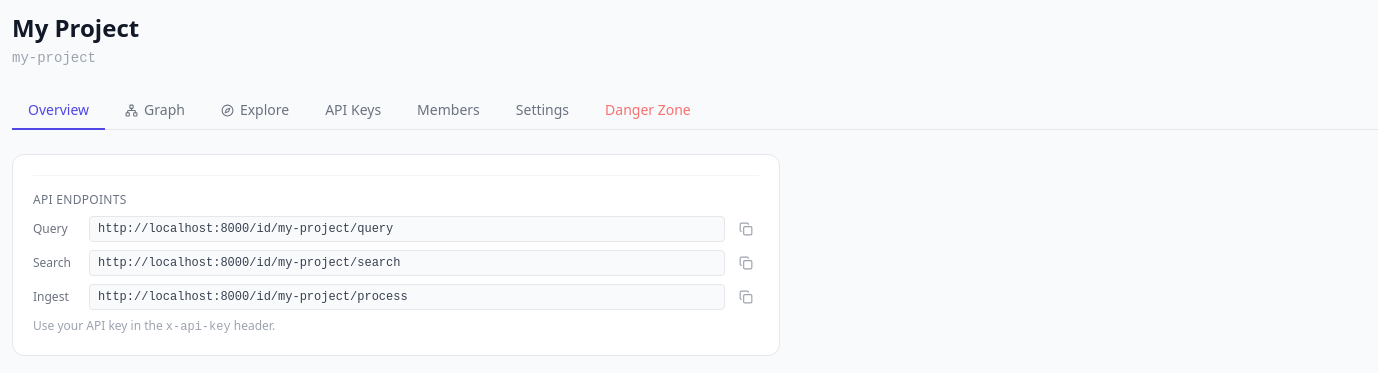
it: ProjectDetail page › API Keys tab › shows the existing key after switching to the tab
Expected: the heading "My Project" is shown, [12,11,139,44]
What coordinates should you click on to do the following:
click the tab "API Keys"
I would click on:
 (353, 111)
Its box is [309,92,397,130].
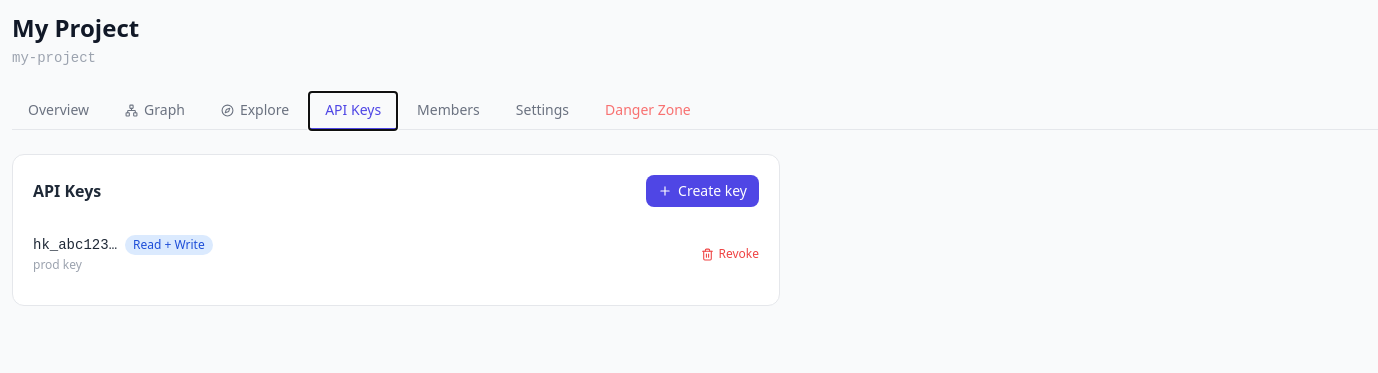
Now the text "hk_abc123…" is shown, box [33,235,117,255]
